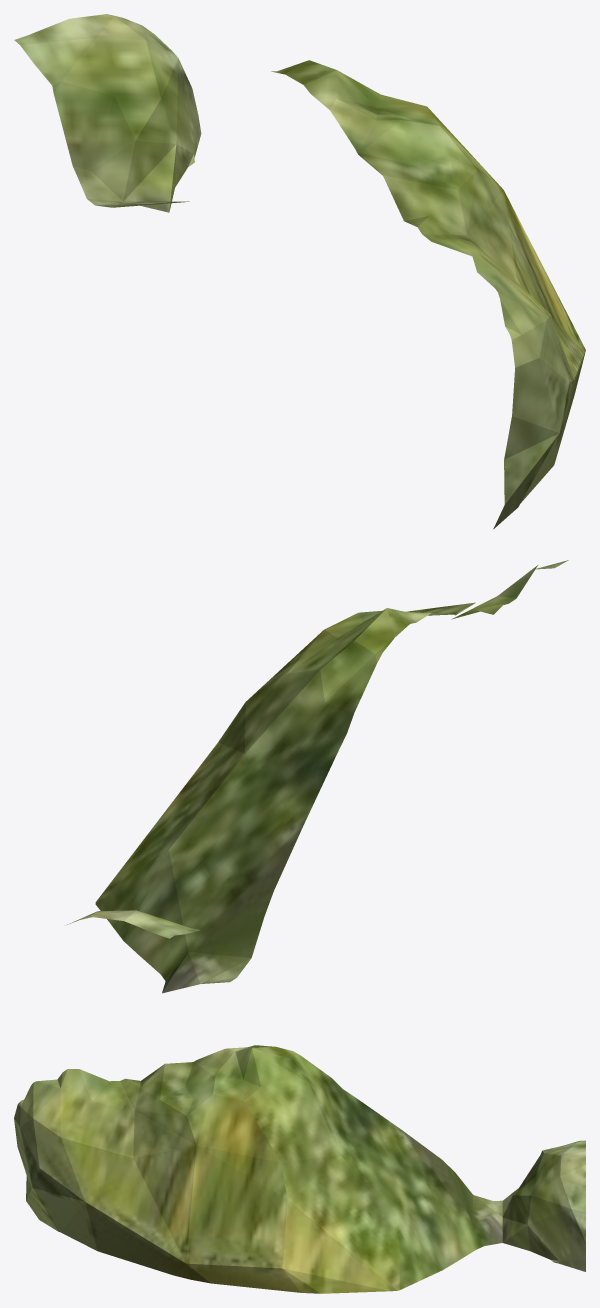
3 views of the same model, one above another, from view 1: azimuth 30°, elevation 25°; view 2: azimuth 150°, elevation 25°; view 3: azimuth 270°, elevation 25° (orthographic). The views are drawn at different scales.
Bounding box in the file's own units: 0.5243 × 0.597 × 1.72.
Materials: 1 (1 with a texture image).
